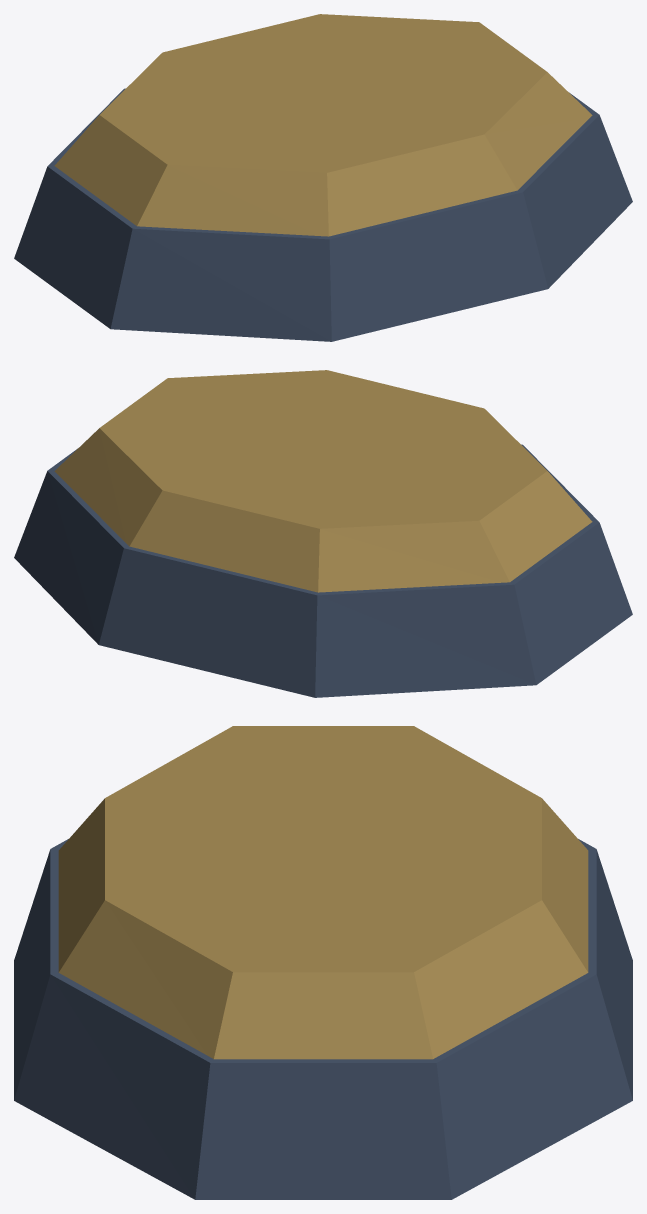
The model's file is octagonal_step.obj.
The picture shows the model from 3 angles, top to bottom: view 1: azimuth 30°, elevation 25°; view 2: azimuth 150°, elevation 25°; view 3: azimuth 270°, elevation 25°; orthographic projection. The views are drawn at different scales.
Parts seen in each view (by area): view 1: octagonal_step, octagonal_base; view 2: octagonal_step, octagonal_base; view 3: octagonal_step, octagonal_base.
Boxes of the visible parts, x1,y1,x2,y2 form: octagonal_step: (54, 14, 592, 236); octagonal_base: (14, 88, 632, 341); octagonal_step: (54, 370, 592, 592); octagonal_base: (14, 444, 632, 697); octagonal_step: (58, 726, 588, 1059); octagonal_base: (14, 839, 632, 1199).
Size of the model in its own units: 1.22 by 0.305 by 0.9424.
